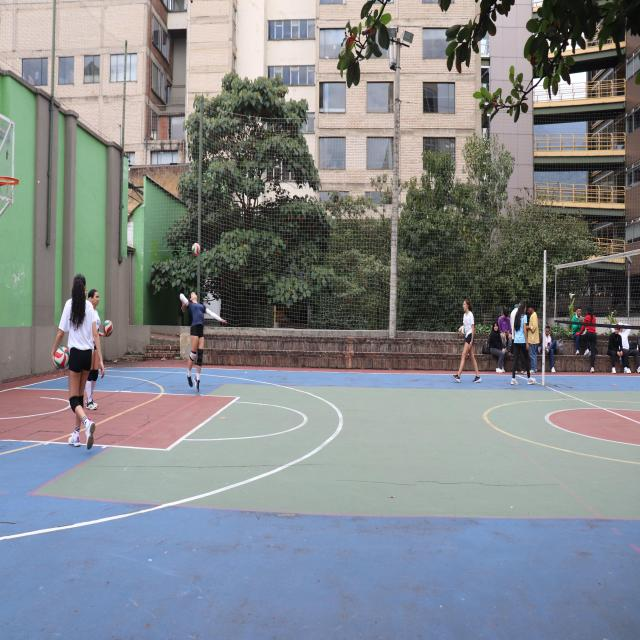volleyball: (55, 346, 69, 369), (103, 320, 113, 334), (192, 243, 200, 256), (459, 326, 466, 336)
